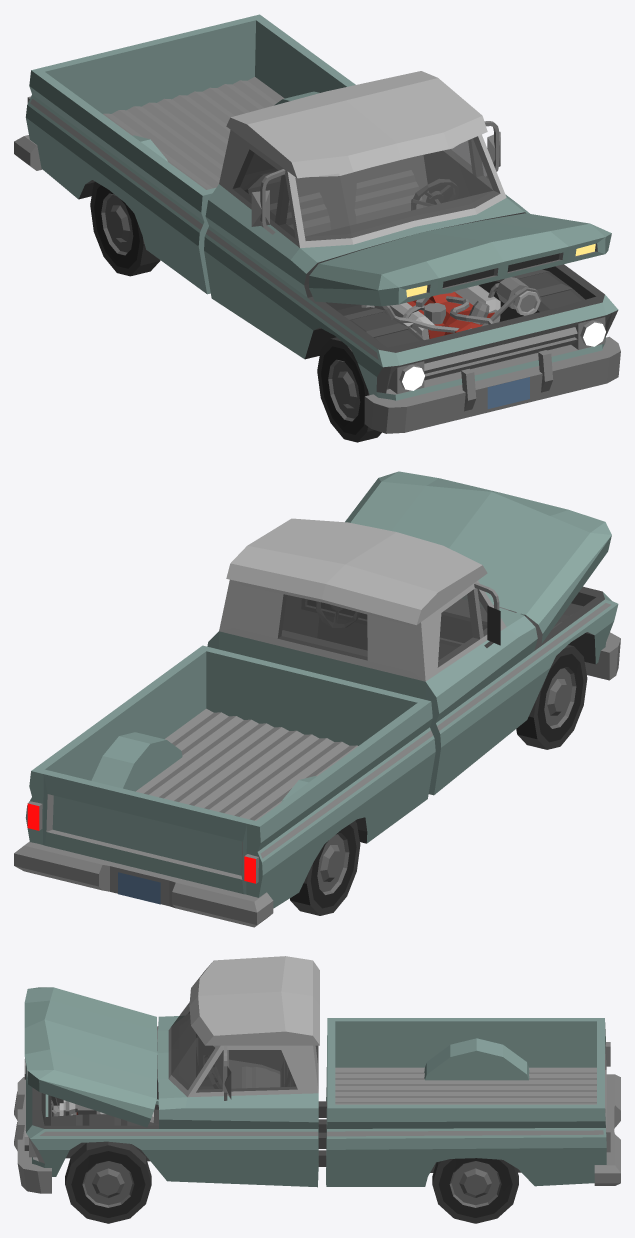
The model's file is 1965_chevrolet_c10.glb.
3 renders of one model, top to bottom at view 1: azimuth 30°, elevation 25°; view 2: azimuth 150°, elevation 25°; view 3: azimuth 270°, elevation 25°, orthographic. The views are drawn at different scales.
Parts seen in each view (by area): view 1: Cube, Cube.002, Cylinder.003, Cube.001, Cube.004, Cylinder.004; view 2: Cube, Cube.002, Cylinder.003; view 3: Cube, Cube.002, Cylinder.003, Cube.001, Cube.004.
Part boxes in pixels (x1,y1,x2,y2): Cube: [14, 14, 620, 433]; Cube.002: [309, 213, 611, 306]; Cylinder.003: [90, 181, 381, 442]; Cube.001: [243, 155, 428, 236]; Cube.004: [361, 277, 541, 339]; Cylinder.004: [411, 179, 458, 210]; Cube: [14, 518, 620, 927]; Cube.002: [345, 471, 611, 643]; Cylinder.003: [290, 645, 587, 915]; Cube: [14, 956, 620, 1193]; Cube.002: [24, 987, 158, 1127]; Cylinder.003: [65, 1141, 518, 1223]; Cube.001: [229, 1059, 295, 1088]; Cube.004: [51, 1026, 158, 1122].
Size of the model in its own units: 441 by 397 by 1152.
